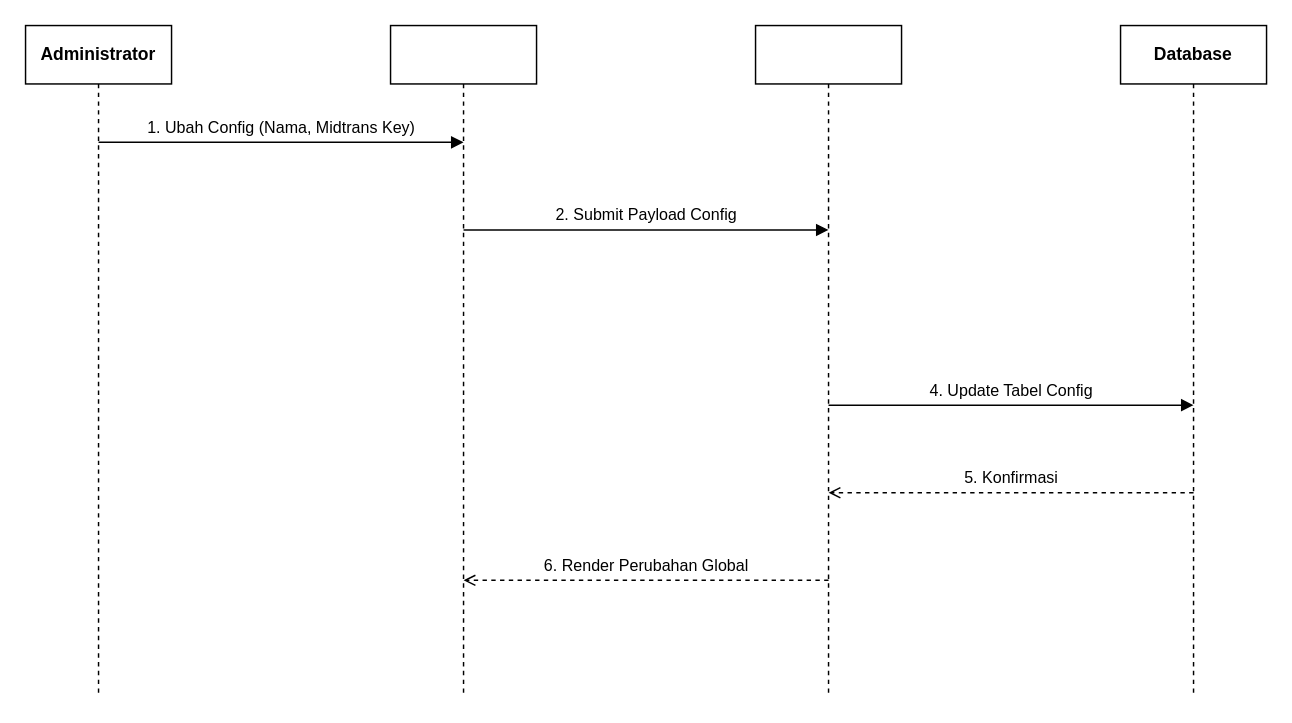
Image size: 1292x723. Some labels were removed from this diagram. Here are the shapes that lost their labels. From the top down, the box of each, then its label:
(389, 24, 537, 697): Sistem (UI)
(754, 24, 902, 697): Sistem (Controller)
